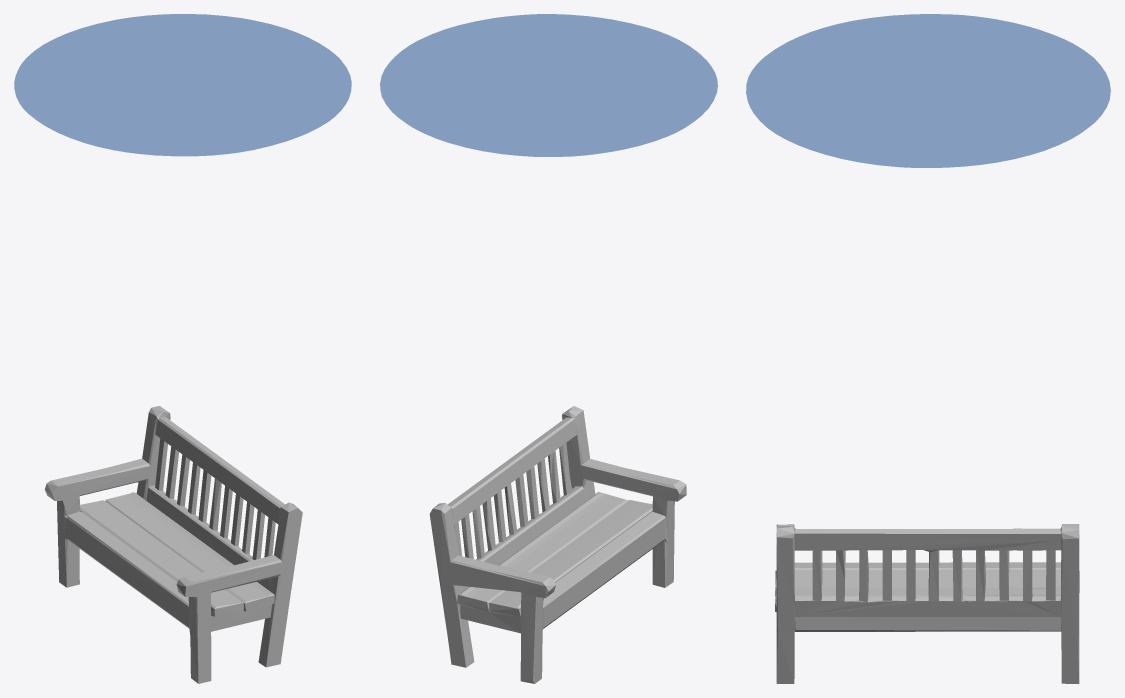
File: init.glb
3 views of the same model, side by side, from view 1: azimuth 30°, elevation 25°; view 2: azimuth 150°, elevation 25°; view 3: azimuth 270°, elevation 25° (orthographic). The views are drawn at different scales.
Visible parts, largest first — view 1: world, object.obj; view 2: world, object.obj; view 3: world, object.obj.
Boxes of the visible parts, box(x1,y1,x2,y2) form: world: box(14, 14, 351, 156); object.obj: box(44, 406, 302, 683); world: box(380, 14, 717, 156); object.obj: box(429, 406, 686, 683); world: box(746, 14, 1110, 167); object.obj: box(775, 524, 1079, 683).
Size of the model in its own units: 0.5716 by 1 by 0.5716.
